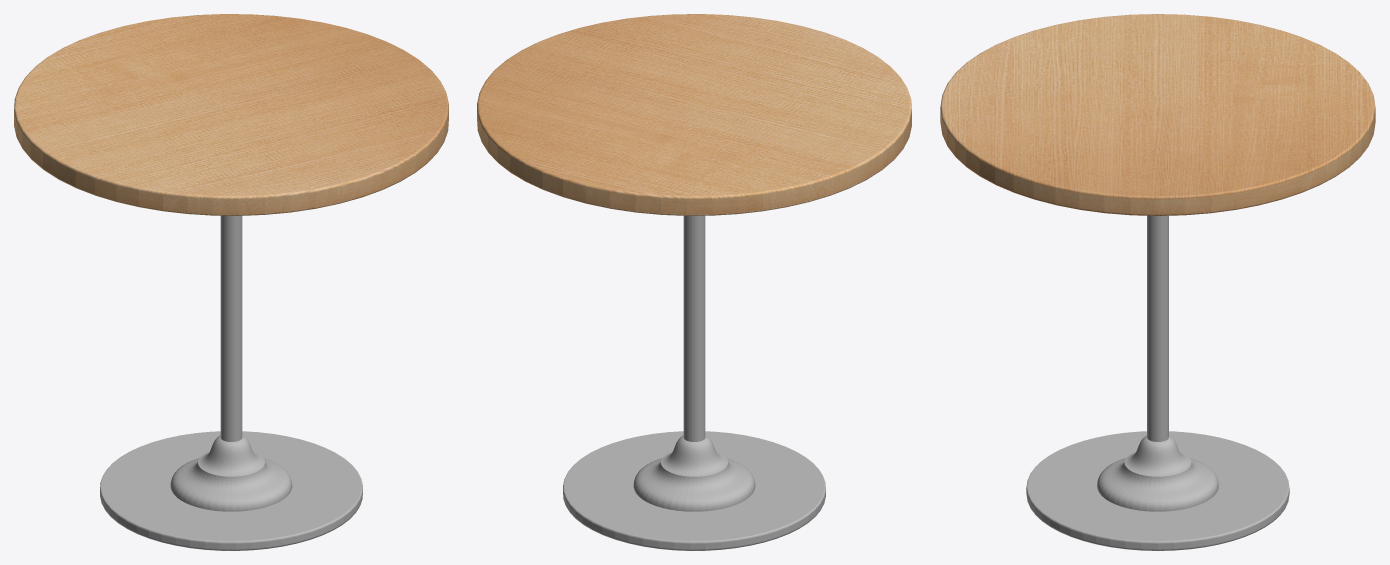
Rendered from table.obj.
The picture shows the model from 3 angles, left to right: view 1: azimuth 30°, elevation 25°; view 2: azimuth 150°, elevation 25°; view 3: azimuth 270°, elevation 25°; orthographic projection.
Visible parts, largest first — view 1: Circle01, Circle03, Rectangle07, Circle02; view 2: Circle01, Circle03, Rectangle07, Circle02; view 3: Circle01, Circle03, Rectangle07, Circle02.
Part boxes in pixels (<box>): Circle01: <box>14,14,448,215</box>; Circle03: <box>100,431,362,550</box>; Rectangle07: <box>170,435,292,511</box>; Circle02: <box>220,215,242,441</box>; Circle01: <box>477,14,911,215</box>; Circle03: <box>563,431,825,550</box>; Rectangle07: <box>633,435,755,511</box>; Circle02: <box>683,215,705,441</box>; Circle01: <box>940,14,1375,215</box>; Circle03: <box>1026,431,1289,550</box>; Rectangle07: <box>1097,435,1218,511</box>; Circle02: <box>1147,215,1168,441</box>.
Bounding box in the file's own units: 8000 × 7927 × 8000.
2 materials, 1 textured.
